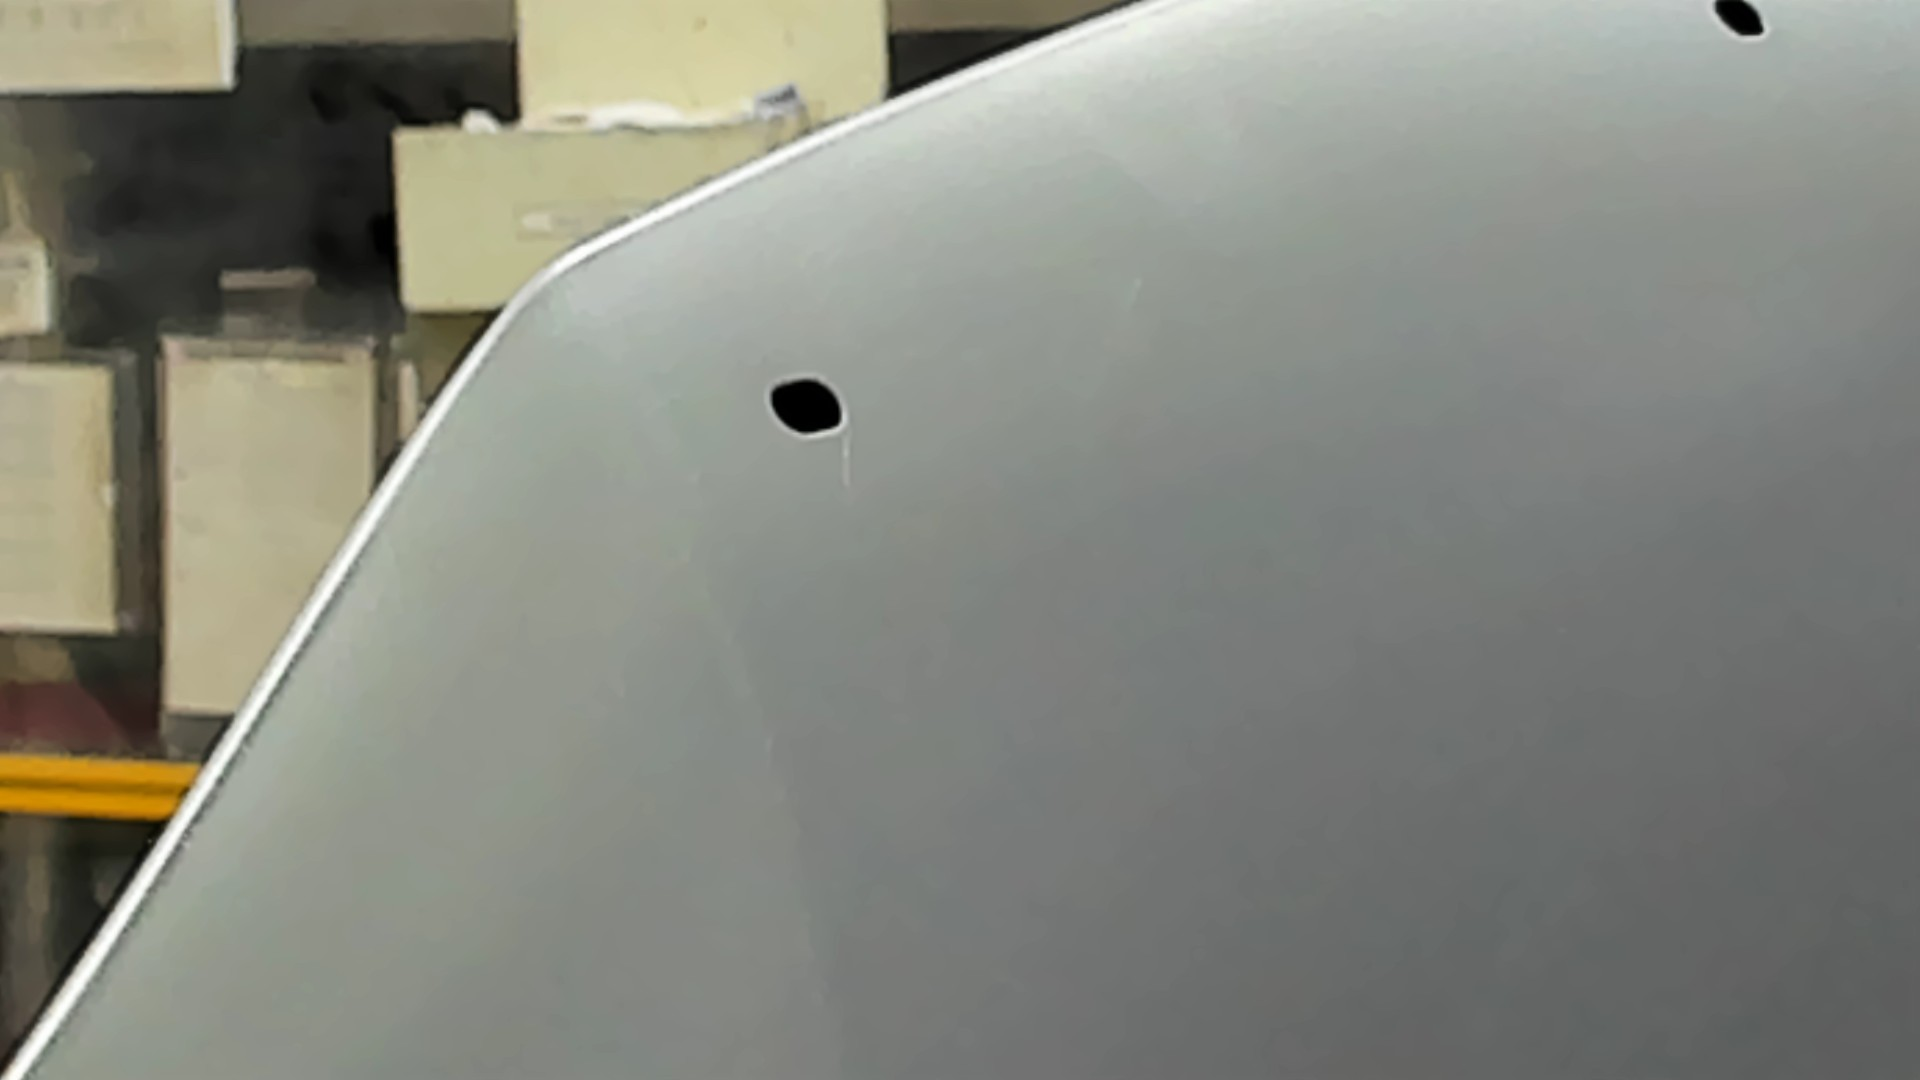amorfo: (757, 371, 852, 440), (1701, 1, 1778, 49)
